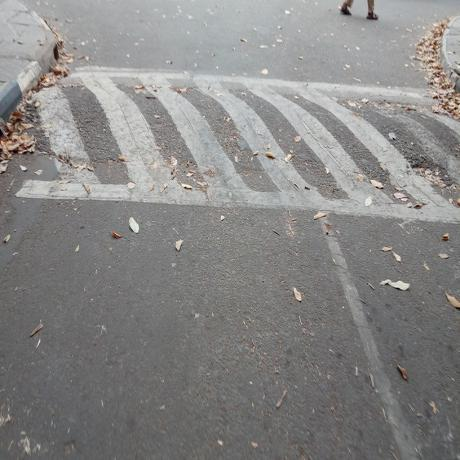Speed Bump: (50, 64, 447, 218)
